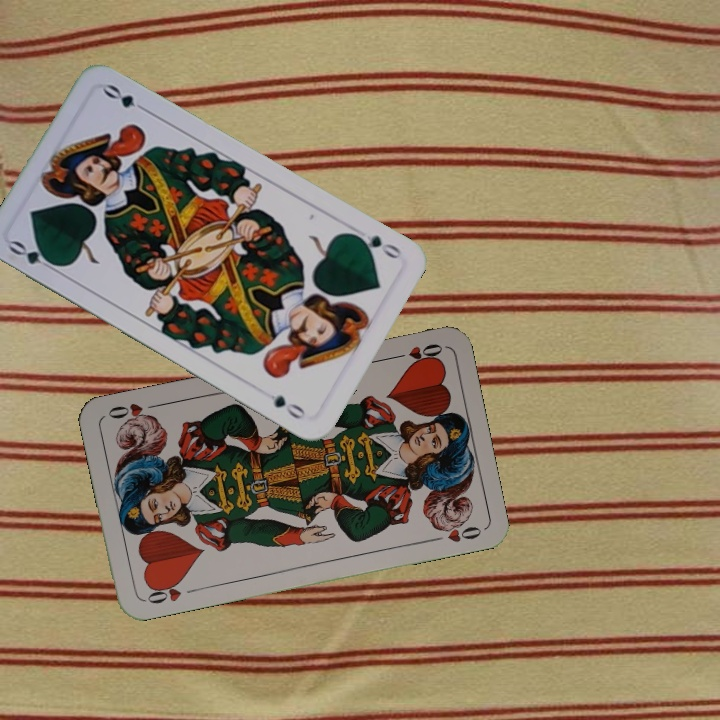GO: (5, 236, 63, 275), (348, 229, 405, 262)
HO: (141, 576, 200, 607), (387, 339, 446, 366)
